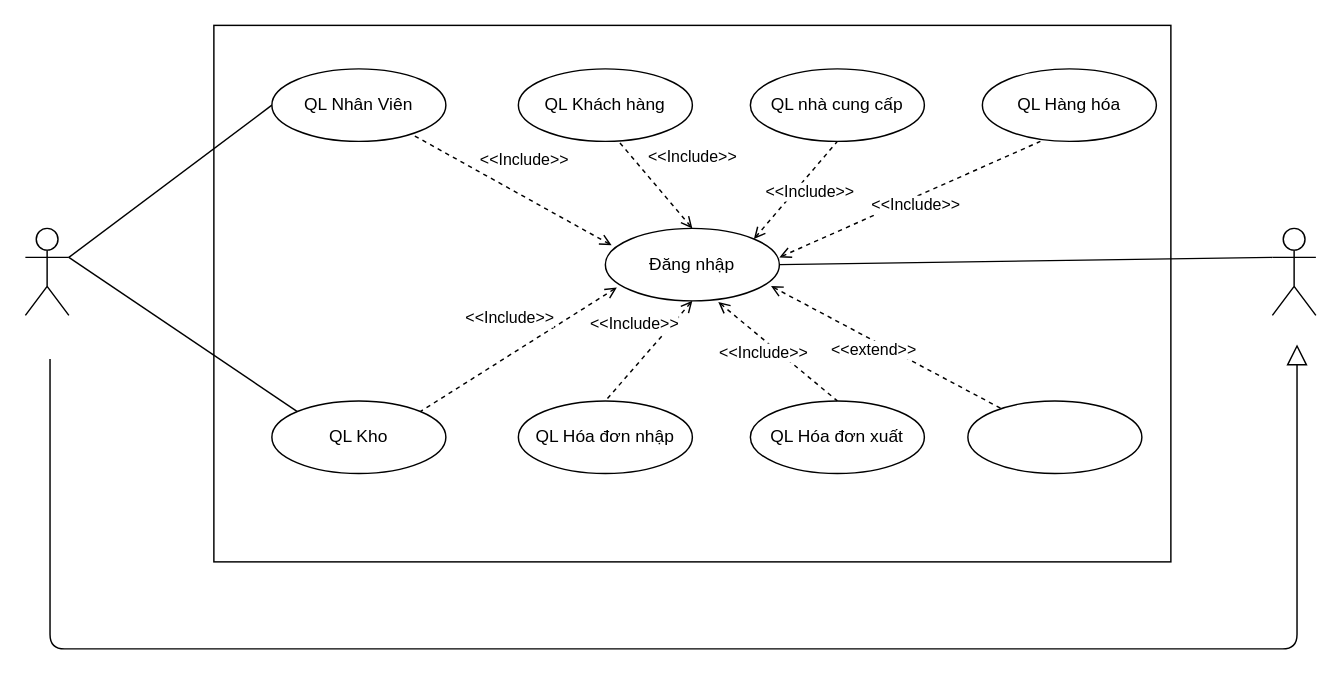
This 1343x695 diagram has some shape labels left out. Each missing label, with the centre of its shape:
NV: (1293,271)
QL: (46,271)
Đổi mật khẩu: (1054,436)
